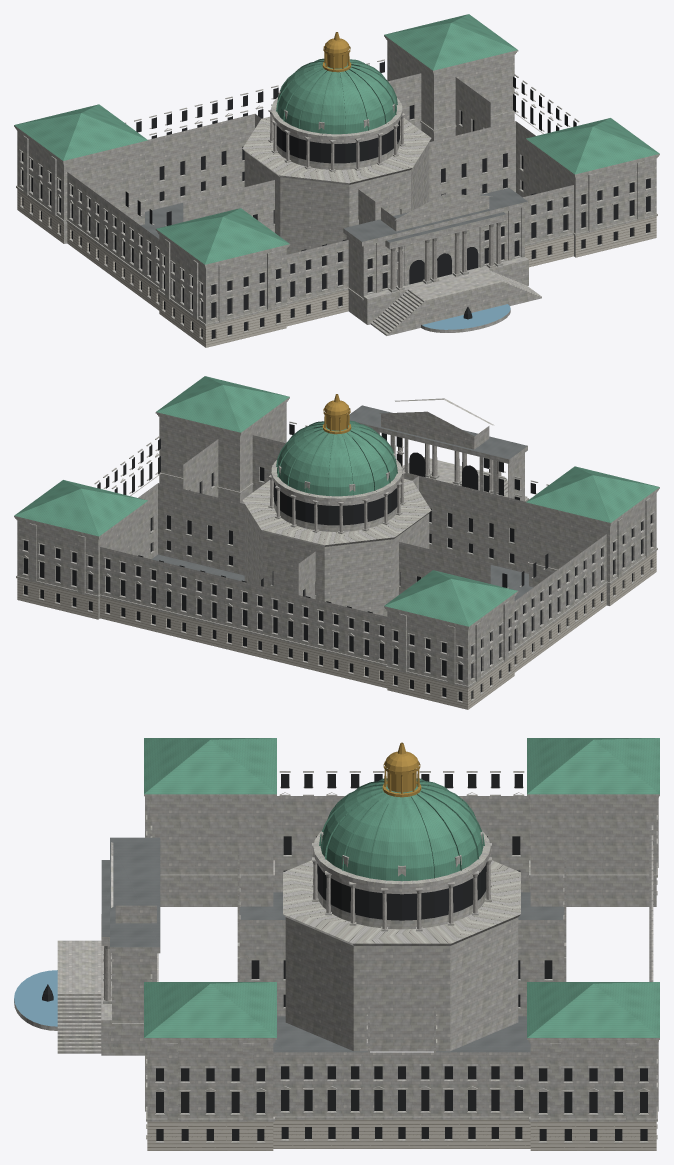
The model's file is library_of_congress.glb.
The picture shows the model from 3 angles, top to bottom: view 1: azimuth 30°, elevation 25°; view 2: azimuth 150°, elevation 25°; view 3: azimuth 270°, elevation 25°; orthographic projection. The views are drawn at different scales.
Parts seen in each view (by area): view 1: library_of_congress; view 2: library_of_congress; view 3: library_of_congress.
Part boxes in pixels (<box>): library_of_congress: <box>14,14,659,347</box>; library_of_congress: <box>14,376,659,709</box>; library_of_congress: <box>14,738,659,1150</box>.
Size of the model in its own units: 146 by 59 by 133.
Materials: 6 (6 with a texture image).
